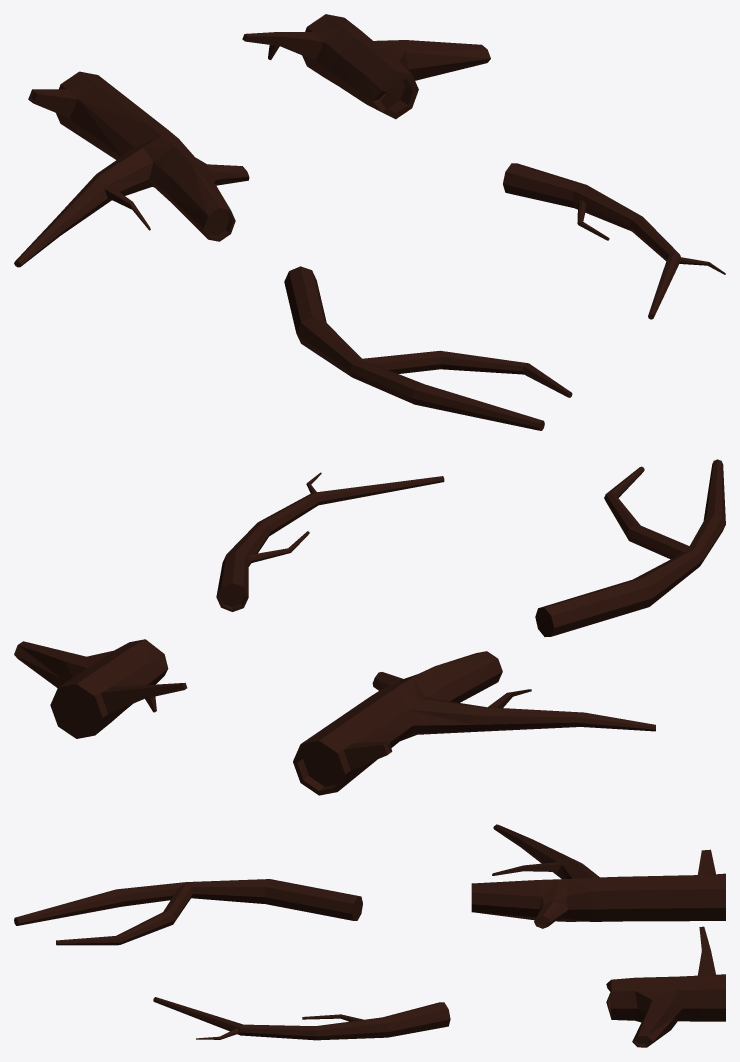
The model's file is Tree Trunk Fbx.fbx.
3 renders of one model, top to bottom at view 1: azimuth 30°, elevation 25°; view 2: azimuth 150°, elevation 25°; view 3: azimuth 270°, elevation 25°, orthographic. The views are drawn at different scales.
Visible parts, largest first — view 1: trunks00, trunks01, trunks02, trunks03; view 2: trunks00, trunks01, trunks02, trunks03; view 3: trunks00, trunks02, trunks01, trunks03.
Boxes of the visible parts, bbox=[...] form: trunks00: bbox=[14, 71, 249, 267]; trunks01: bbox=[242, 14, 490, 119]; trunks02: bbox=[284, 266, 572, 430]; trunks03: bbox=[503, 163, 725, 319]; trunks00: bbox=[293, 651, 655, 795]; trunks01: bbox=[14, 639, 187, 738]; trunks02: bbox=[535, 459, 725, 636]; trunks03: bbox=[216, 472, 444, 611]; trunks00: bbox=[471, 824, 725, 928]; trunks02: bbox=[14, 879, 362, 945]; trunks01: bbox=[606, 926, 725, 1047]; trunks03: bbox=[153, 997, 450, 1040].
Bounding box in the file's own units: 393 × 46.56 × 531.
